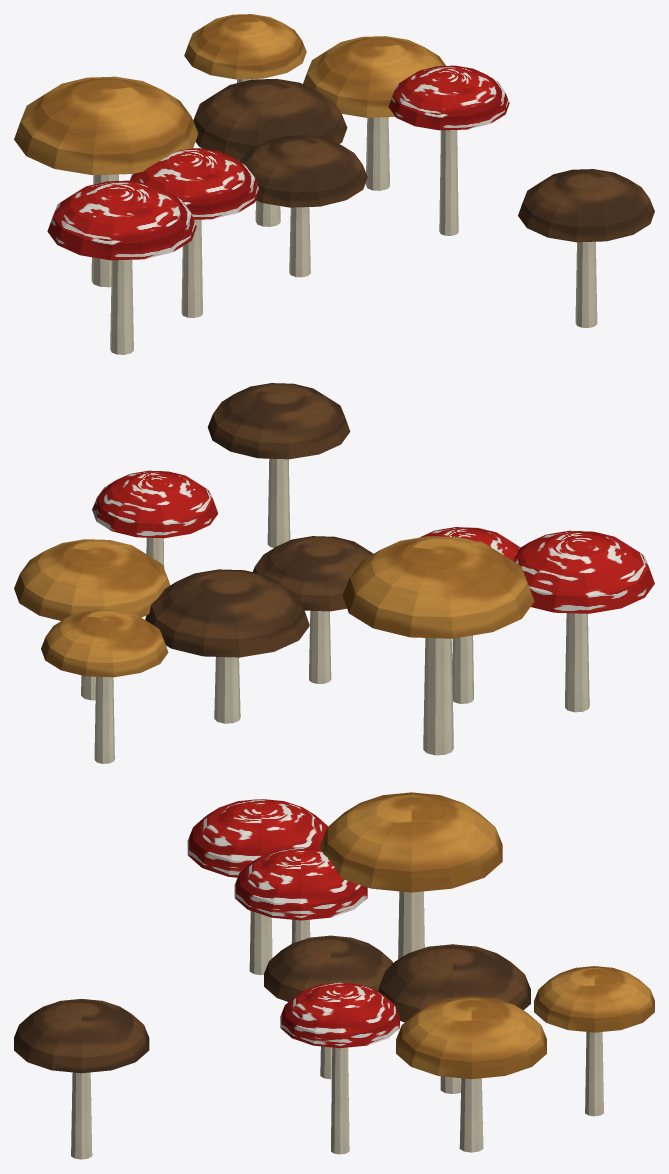
The model's file is ground_fungus_patch_v2.glb.
3 views of the same model, one above another, from view 1: azimuth 30°, elevation 25°; view 2: azimuth 150°, elevation 25°; view 3: azimuth 270°, elevation 25° (orthographic). The views are drawn at different scales.
Visible parts, largest first — view 1: ground_fungus_patch_v2; view 2: ground_fungus_patch_v2; view 3: ground_fungus_patch_v2.
Part boxes in pixels (x1,y1,x2,y2): ground_fungus_patch_v2: (14, 14, 654, 354); ground_fungus_patch_v2: (14, 383, 654, 763); ground_fungus_patch_v2: (14, 792, 654, 1159).
Bounding box in the file's own units: 0.28 × 0.102 × 0.3082.
Materials: 4 (4 with a texture image).
